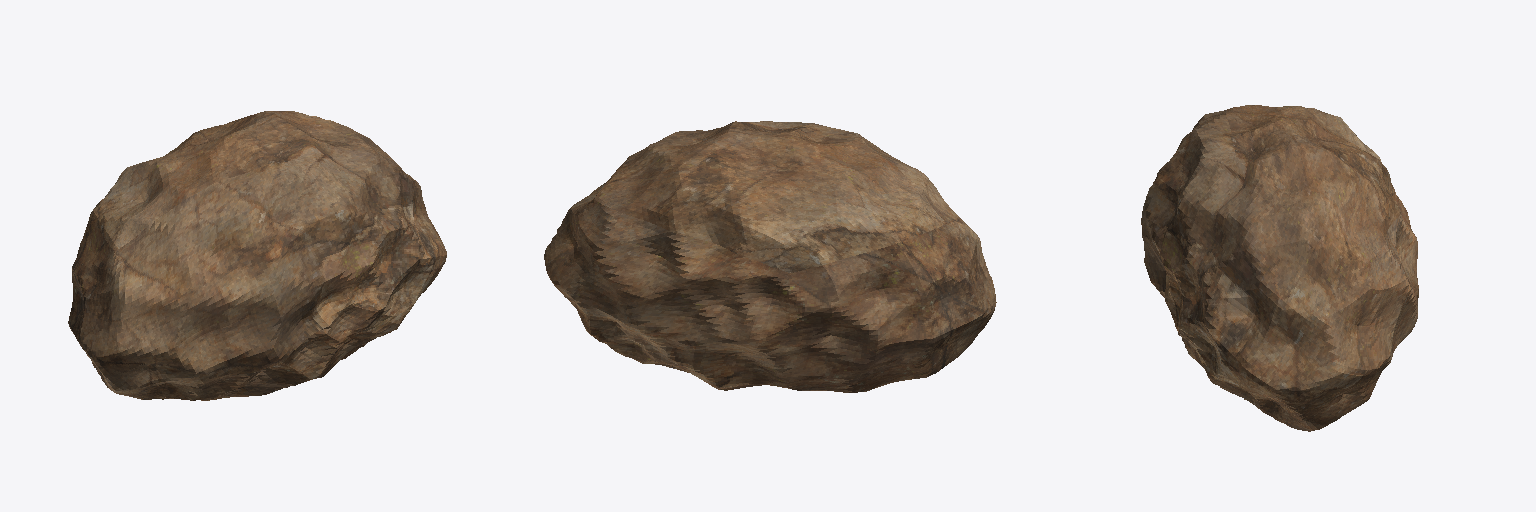
The picture shows the model from 3 angles: view 1: azimuth 30°, elevation 25°; view 2: azimuth 150°, elevation 25°; view 3: azimuth 270°, elevation 25°; orthographic projection.
Parts seen in each view (by area): view 1: rock2; view 2: rock2; view 3: rock2.
Boxes of the visible parts, x1,y1,x2,y2 form: rock2: [68, 111, 446, 400]; rock2: [544, 121, 996, 392]; rock2: [1141, 105, 1418, 431].
Bounding box in the file's own units: 78.45 × 47.91 × 48.03.
1 materials, 1 textured.